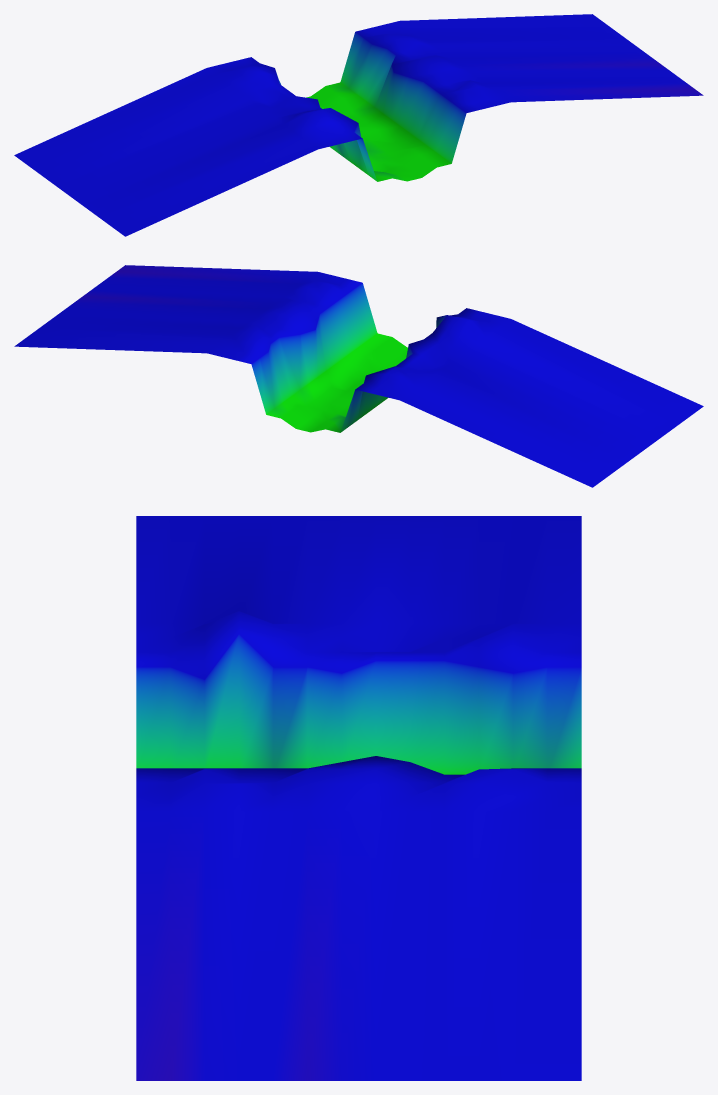
Rendered from Doto_landspace1.fbx.
3 renders of one model, top to bottom at view 1: azimuth 30°, elevation 25°; view 2: azimuth 150°, elevation 25°; view 3: azimuth 270°, elevation 25°, orthographic. The views are drawn at different scales.
Parts seen in each view (by area): view 1: Plane.007; view 2: Plane.007; view 3: Plane.007.
Boxes of the visible parts, x1=… form: Plane.007: x1=14, y1=14, x2=703, y2=236; Plane.007: x1=14, y1=265, x2=703, y2=487; Plane.007: x1=136, y1=516, x2=581, y2=1080.
Size of the model in its own units: 45000 by 5500 by 15000.
